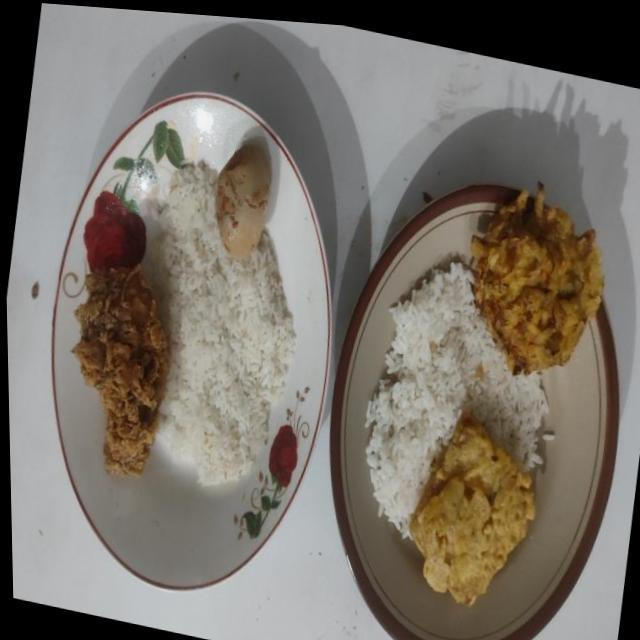nasi_putih: (365, 262, 548, 539), (160, 162, 296, 486)
